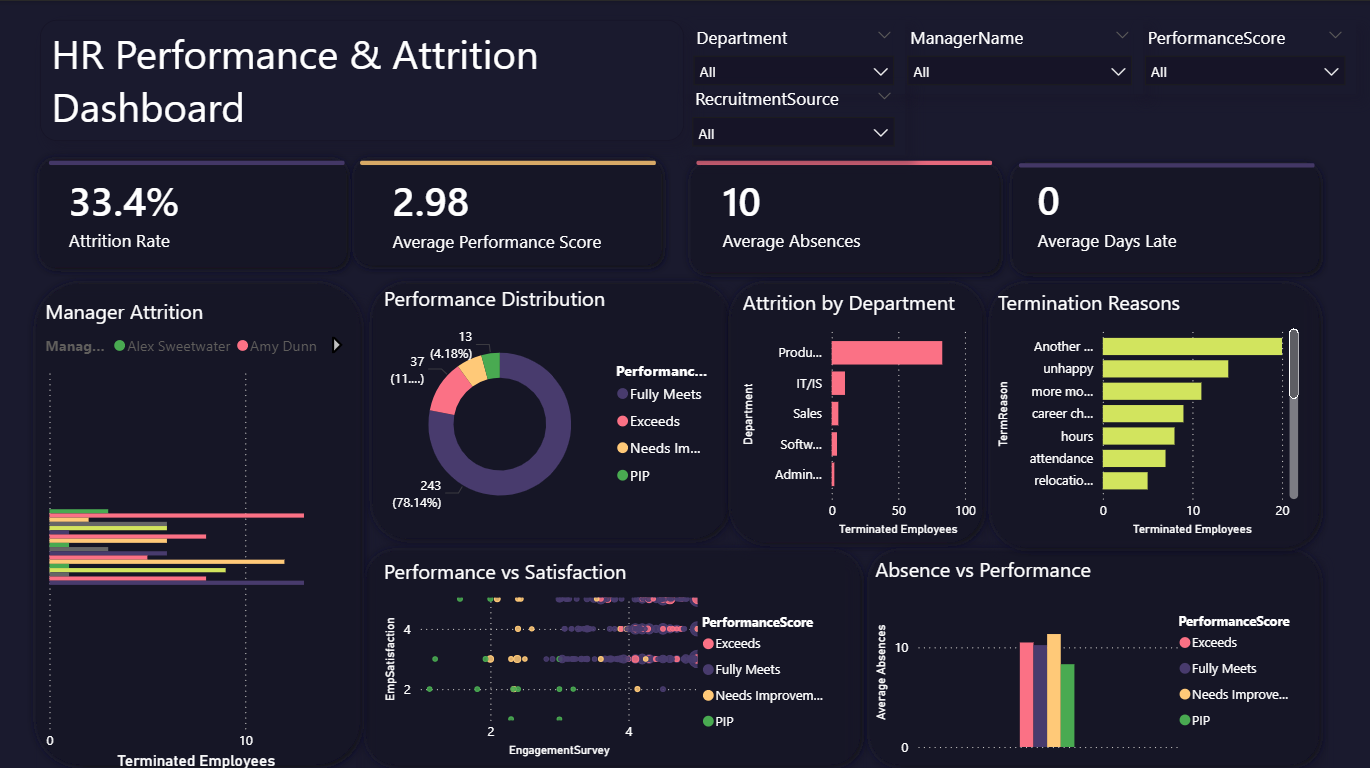

The dashboard page shown, as its layout file describes it:
{"tool":"powerbi","page":{"name":"HR Performance & Attrition Dashboard","canvas":[1280,720],"ordinal":2},"visuals":[{"type":"shape","box":[336,502.3,477.9,217.4],"z":0},{"type":"textbox","title":"HR Performance & Attrition Dashboard","box":[41.9,17.4,598.8,112.8],"z":1000},{"type":"shape","box":[29.1,253.5,319.8,466.3],"z":2000},{"type":"shape","box":[32.6,138.4,303.5,118.6],"z":3000},{"type":"shape","box":[325.6,138.4,303.5,116.3],"z":4000},{"type":"shape","box":[638.4,143,304.7,118.6],"z":5000},{"type":"shape","box":[937.2,143,303.5,118.6],"z":6000},{"type":"cardVisual","fields":{"Data":["Measure.Attrition Rate"]},"box":[39.5,138.4,300,116.3],"z":7000},{"type":"cardVisual","fields":{"Data":["Measure.Average Performance Score"]},"box":[340.7,139.5,300,115.1],"z":8000},{"type":"cardVisual","fields":{"Data":["Measure.Average Absences"]},"box":[647.7,138.4,300,116.3],"z":9000},{"type":"cardVisual","fields":{"Data":["Measure.Average Days Late"]},"box":[940.7,138.4,300,115.1],"z":10000},{"type":"slicer","fields":{"Values":["HR_Dataset.Department"]},"box":[639.5,17.4,207,68.6],"z":11000},{"type":"slicer","fields":{"Values":["HR_Dataset.ManagerName"]},"box":[838.1,18,229.3,68.4],"z":12000},{"type":"slicer","fields":{"Values":["HR_Dataset.PerformanceScore"]},"box":[1059.1,18,206.5,68.4],"z":13000},{"type":"shape","box":[341.9,253.5,348.8,255.8],"z":14000},{"type":"donutChart","title":"Performance Distribution","fields":{"Y":["Measure.Total Employees"],"Category":["HR_Dataset.PerformanceScore"]},"box":[357,264,318.6,234.9],"z":15000},{"type":"shape","box":[675.6,253.5,252.3,259.3],"z":16000},{"type":"shape","box":[804.7,502.3,436,217.4],"z":17000},{"type":"shape","box":[50,130.2,275.6,40.7],"z":18000},{"type":"shape","box":[339.5,130.2,275.6,40.7],"z":19000},{"type":"shape","box":[652.3,130.2,275.6,40.7],"z":20000},{"type":"shape","box":[952.3,132.6,275.6,40.7],"z":21000},{"type":"slicer","fields":{"Values":["HR_Dataset.RecruitmentSource"]},"box":[638.4,74.4,208.1,68.6],"z":22000},{"type":"clusteredBarChart","title":"Attrition by Department","fields":{"Category":["HR_Dataset.Department"],"Y":["Measure.Terminated Employees"]},"box":[690.7,267.4,226.7,234.9],"z":23000},{"type":"clusteredColumnChart","title":"Absence vs Performance","fields":{"Y":["Measure.Average Absences"],"Series":["HR_Dataset.PerformanceScore"]},"box":[814,516.3,414,191.9],"z":24000},{"type":"scatterChart","title":"Performance vs Satisfaction","fields":{"X":["HR_Dataset.EngagementSurvey"],"Y":["HR_Dataset.EmpSatisfaction"],"Series":["HR_Dataset.PerformanceScore"],"Size":["Sum(HR_Dataset.Salary)"]},"box":[357,517.4,433.7,190.7],"z":25000},{"type":"shape","box":[917.4,253.5,323.3,264],"z":26000},{"type":"clusteredBarChart","title":"Manager Attrition","fields":{"Y":["Measure.Terminated Employees"],"Series":["HR_Dataset.ManagerName"]},"box":[41.9,275.6,294.2,444.2],"z":27000},{"type":"clusteredBarChart","title":"Termination Reasons","fields":{"Category":["HR_Dataset.TermReason"],"Y":["Measure.Terminated Employees"]},"box":[927.9,267.4,289.5,234.9],"z":28000}]}

Visuals, with their boxes in screenshot pixels (x1, y1, x2, y2), scaled from the page's 1280x720 canvas onto the 1370x768 screenshot:
shape: BBox(360, 536, 871, 767)
"HR Performance & Attrition Dashboard" textbox: BBox(45, 19, 686, 139)
shape: BBox(31, 270, 373, 767)
shape: BBox(35, 148, 360, 274)
shape: BBox(348, 148, 673, 272)
shape: BBox(683, 153, 1009, 279)
shape: BBox(1003, 153, 1328, 279)
cardVisual - Measure.Attrition Rate: BBox(42, 148, 363, 272)
cardVisual - Measure.Average Performance Score: BBox(365, 149, 686, 272)
cardVisual - Measure.Average Absences: BBox(693, 148, 1014, 272)
cardVisual - Measure.Average Days Late: BBox(1007, 148, 1328, 270)
slicer - HR_Dataset.Department: BBox(684, 19, 906, 92)
slicer - HR_Dataset.ManagerName: BBox(897, 19, 1142, 92)
slicer - HR_Dataset.PerformanceScore: BBox(1134, 19, 1355, 92)
shape: BBox(366, 270, 739, 543)
"Performance Distribution" donutChart: BBox(382, 282, 723, 532)
shape: BBox(723, 270, 993, 547)
shape: BBox(861, 536, 1328, 767)
shape: BBox(54, 139, 348, 182)
shape: BBox(363, 139, 658, 182)
shape: BBox(698, 139, 993, 182)
shape: BBox(1019, 141, 1314, 185)
slicer - HR_Dataset.RecruitmentSource: BBox(683, 79, 906, 153)
"Attrition by Department" clusteredBarChart: BBox(739, 285, 982, 536)
"Absence vs Performance" clusteredColumnChart: BBox(871, 551, 1314, 755)
"Performance vs Satisfaction" scatterChart: BBox(382, 552, 846, 755)
shape: BBox(982, 270, 1328, 552)
"Manager Attrition" clusteredBarChart: BBox(45, 294, 360, 767)
"Termination Reasons" clusteredBarChart: BBox(993, 285, 1303, 536)
